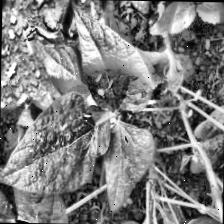ALS: (0, 90, 105, 197), (98, 131, 156, 214), (113, 48, 160, 120)
